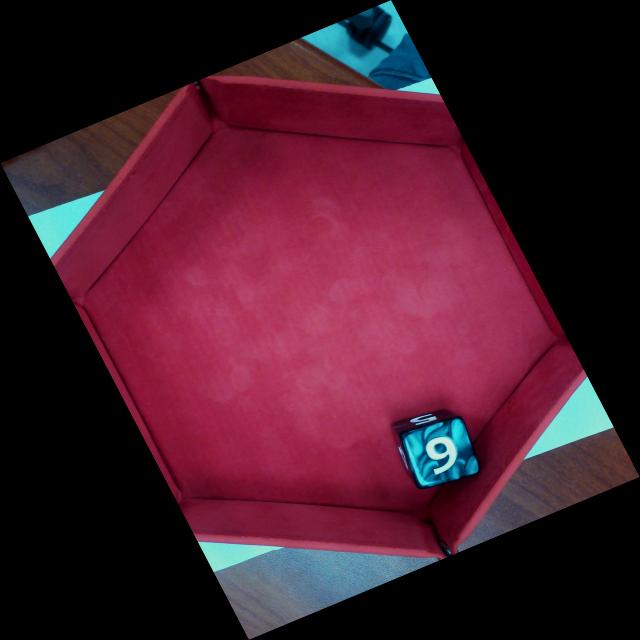dice: (404, 417, 489, 487)
